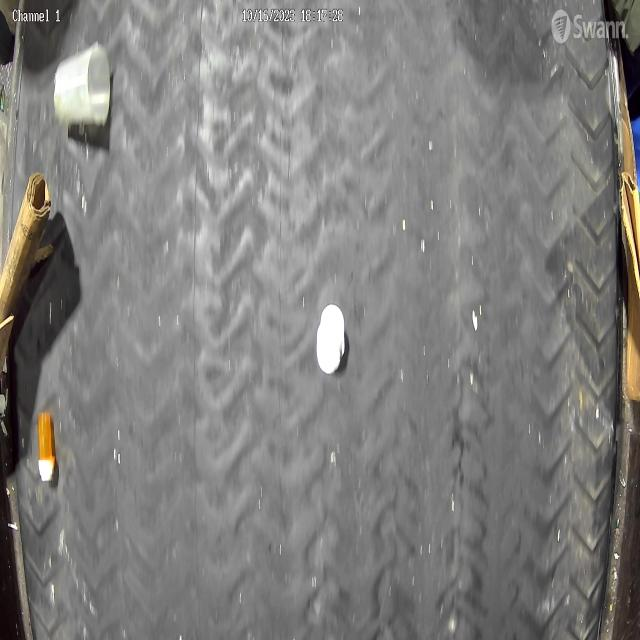can: (54, 42, 110, 126)
